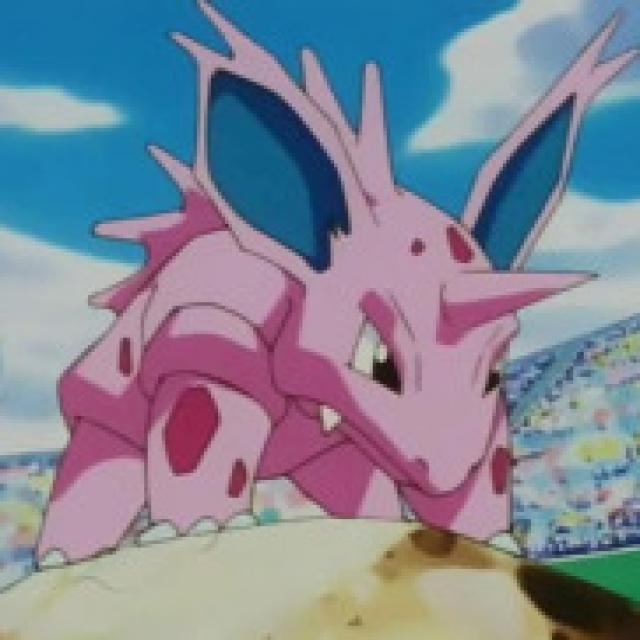Nidorino: (54, 35, 606, 552)
